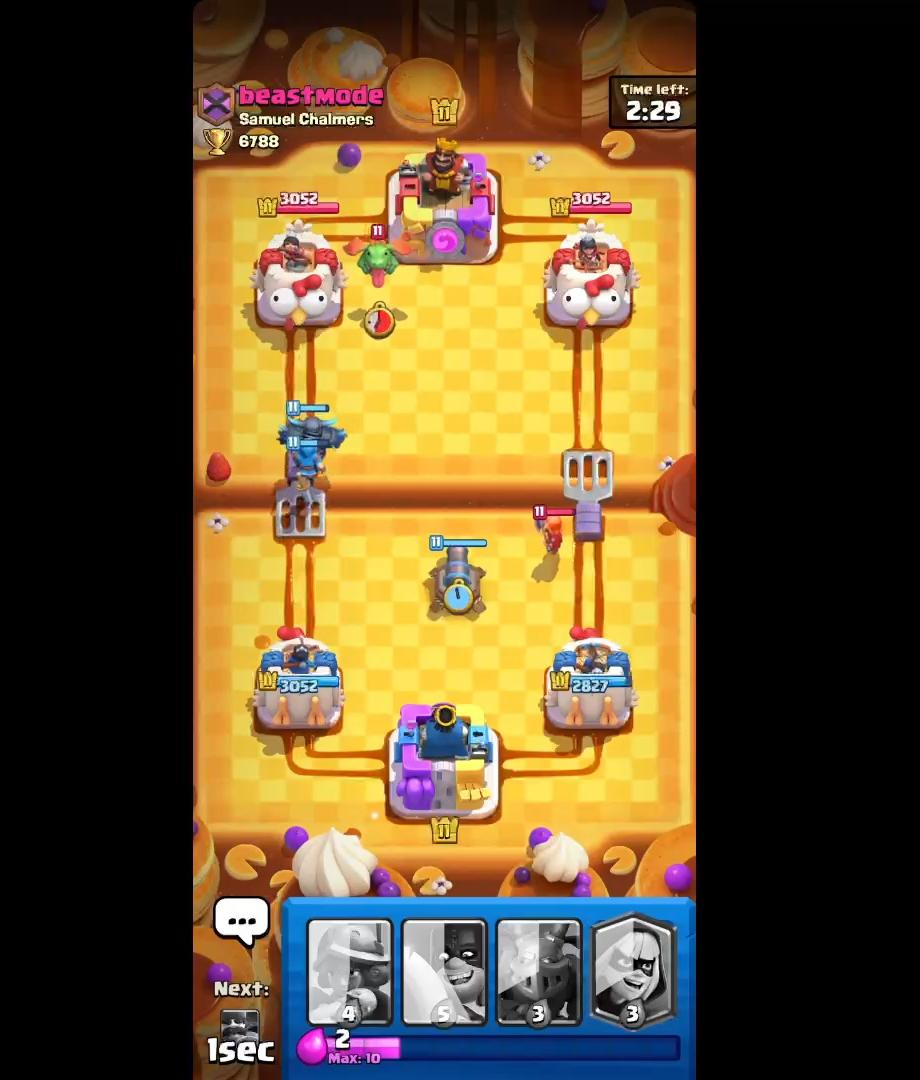Baby Dragon: (343, 223, 404, 289)
Valkyrie: (529, 501, 578, 562)
